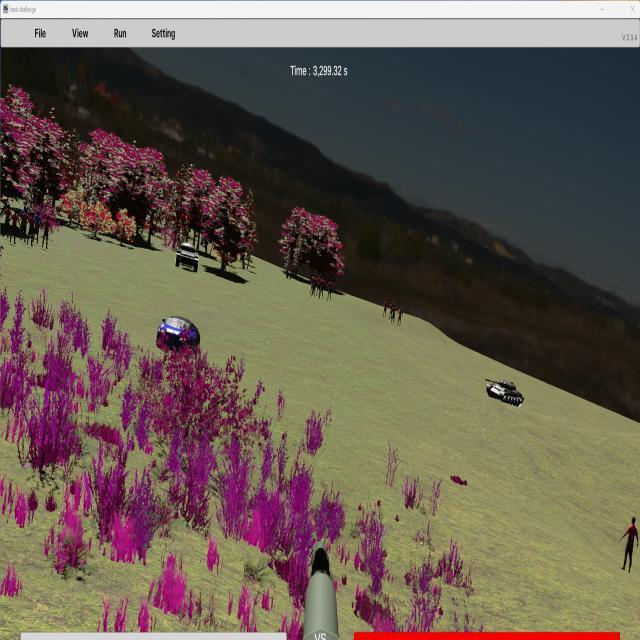Human: (619, 516, 640, 572)
Tank: (484, 378, 525, 407), (175, 240, 199, 273)
car: (156, 314, 200, 355)
